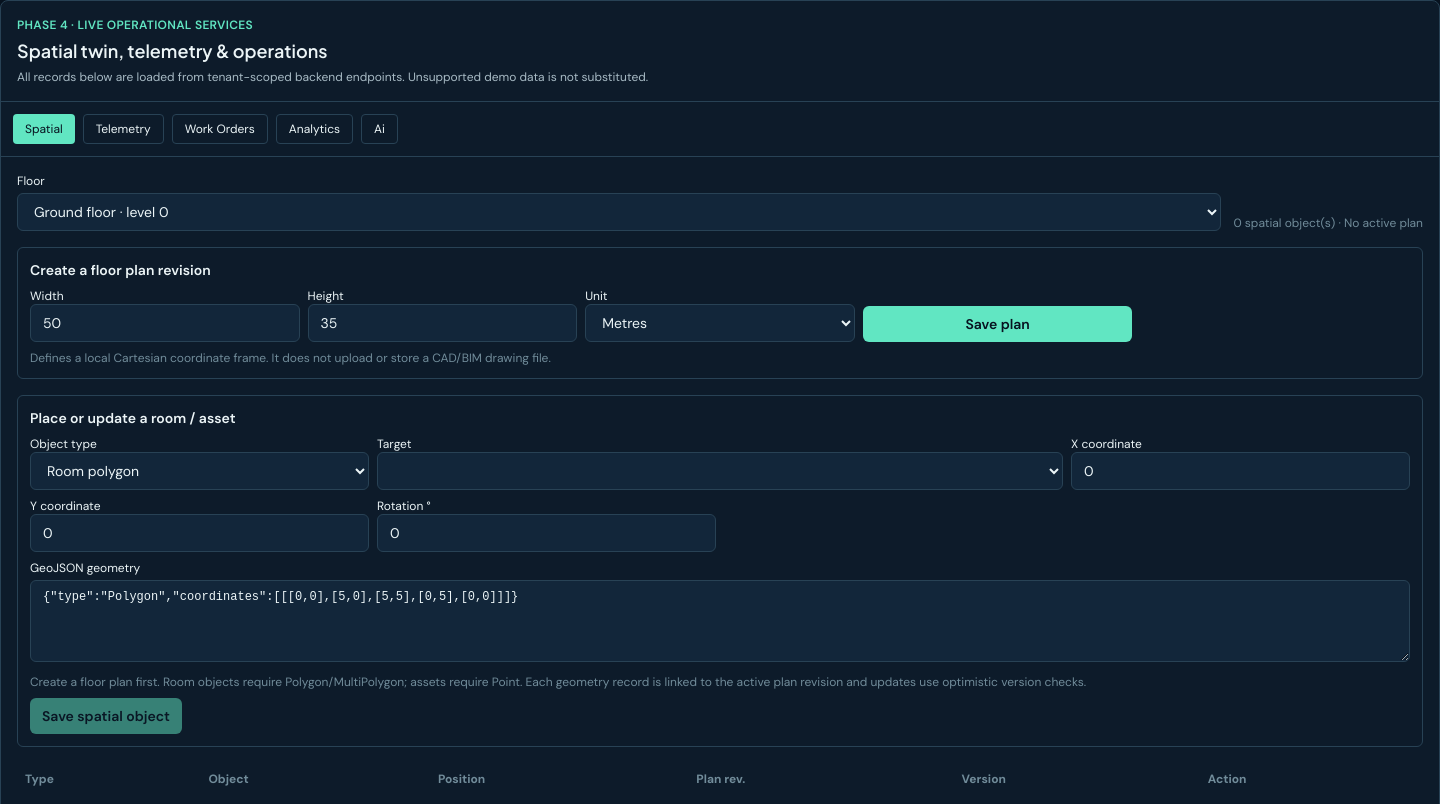
Live Phase 4 operations feedback › keeps the mutation success announcement visible while refreshed data loads
The image size is (1440, 804).
Click the button "Save plan".
click(998, 324)  # box [863,306,1132,342]
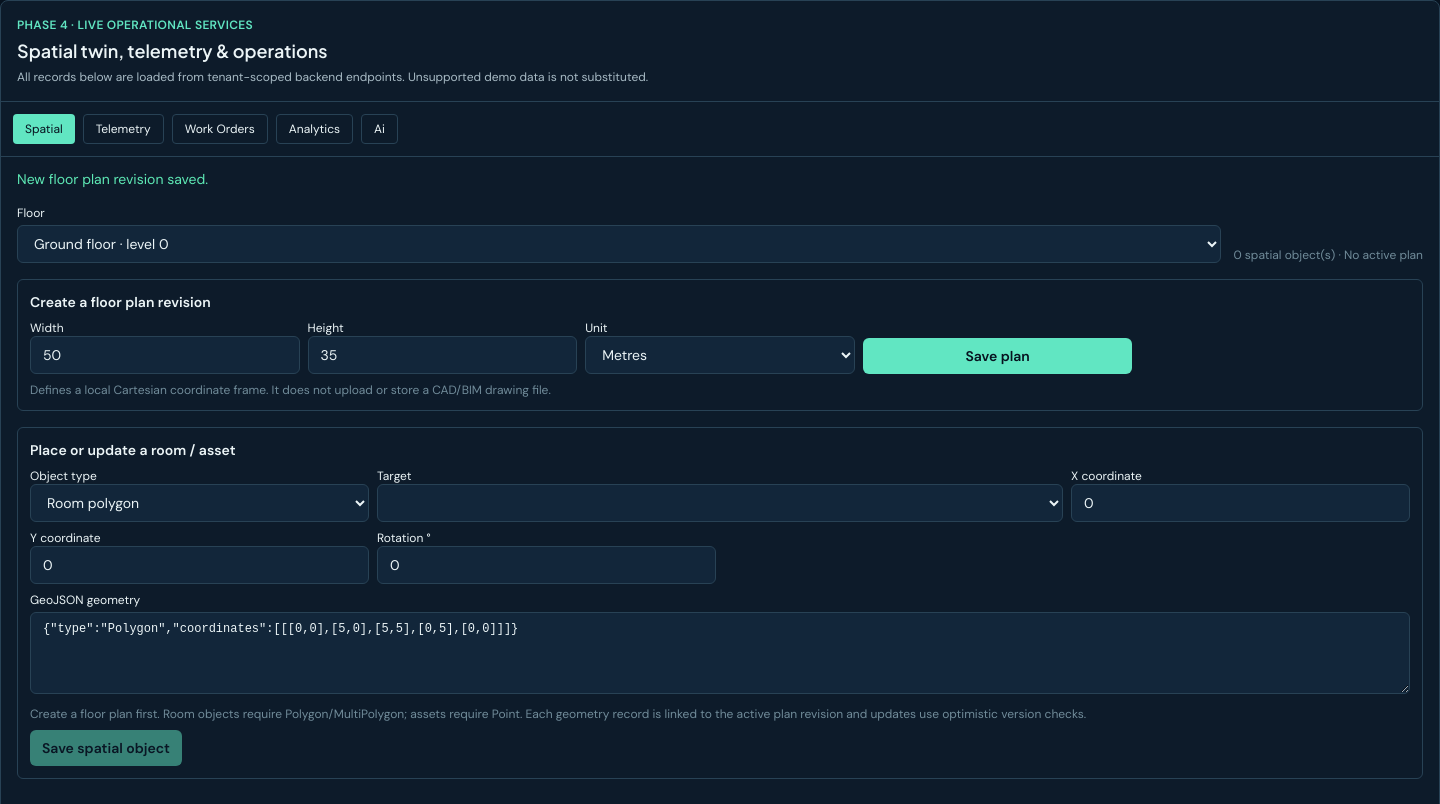
Expected: the message reads "New floor plan revision saved.", [17,170,208,188]
